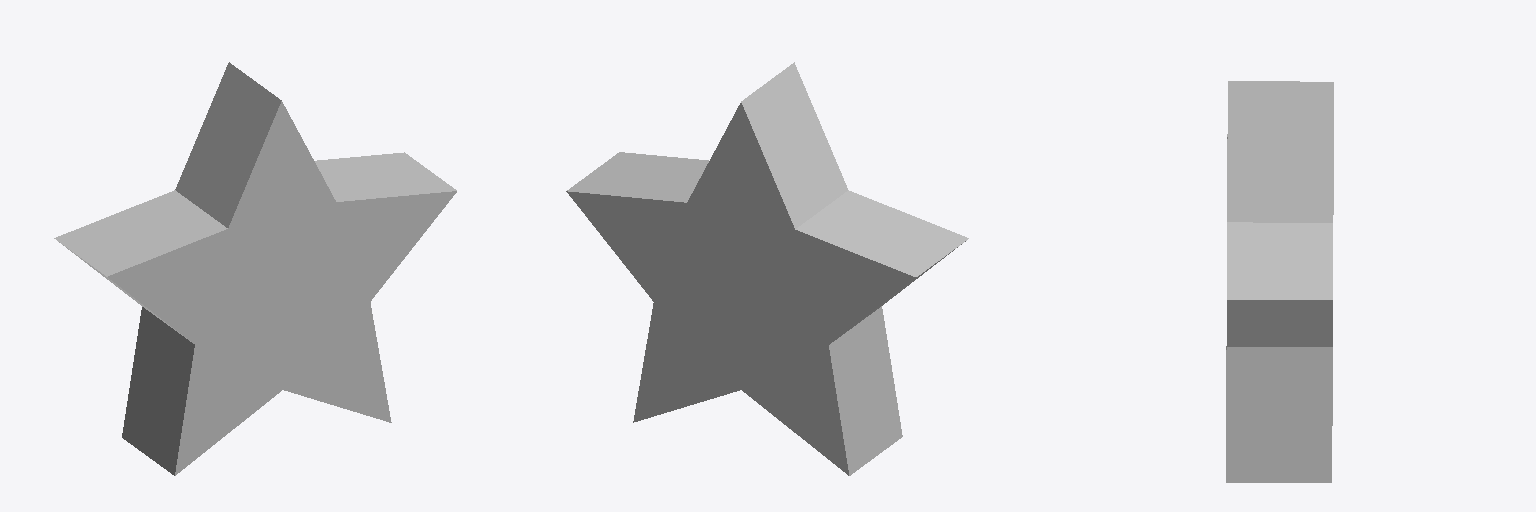
The model's file is star.obj.
3 views of the same model, side by side, from view 1: azimuth 30°, elevation 25°; view 2: azimuth 150°, elevation 25°; view 3: azimuth 270°, elevation 25° (orthographic).
Visible parts, largest first — view 1: star:Mesh; view 2: star:Mesh; view 3: star:Mesh.
Part boxes in pixels (x1,y1,x2,y2): star:Mesh: (54,62,456,475); star:Mesh: (566,62,968,475); star:Mesh: (1226,81,1333,482).
Bounding box in the file's own units: 1.95 × 1.85 × 0.5204.